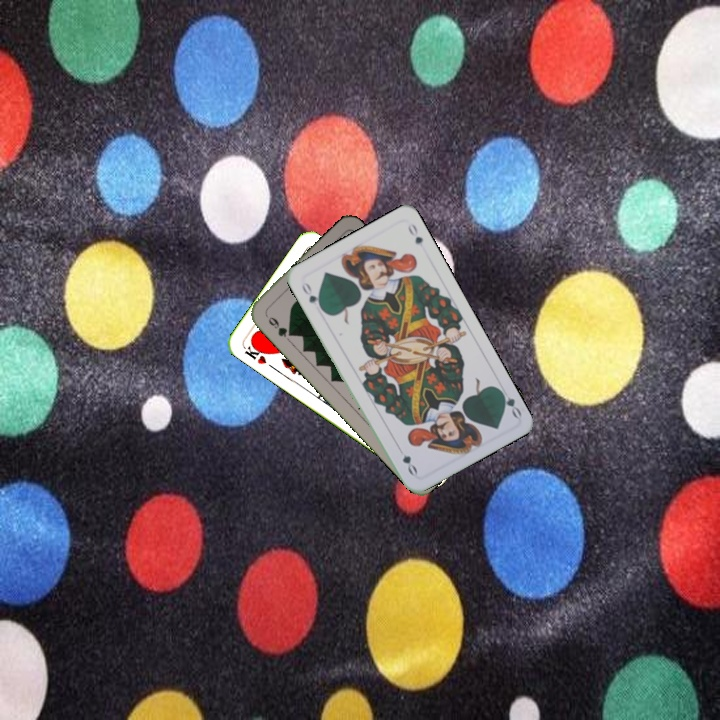G9: (264, 313, 296, 340)
GO: (494, 385, 524, 421), (297, 278, 325, 313)
HK: (240, 339, 270, 367)
